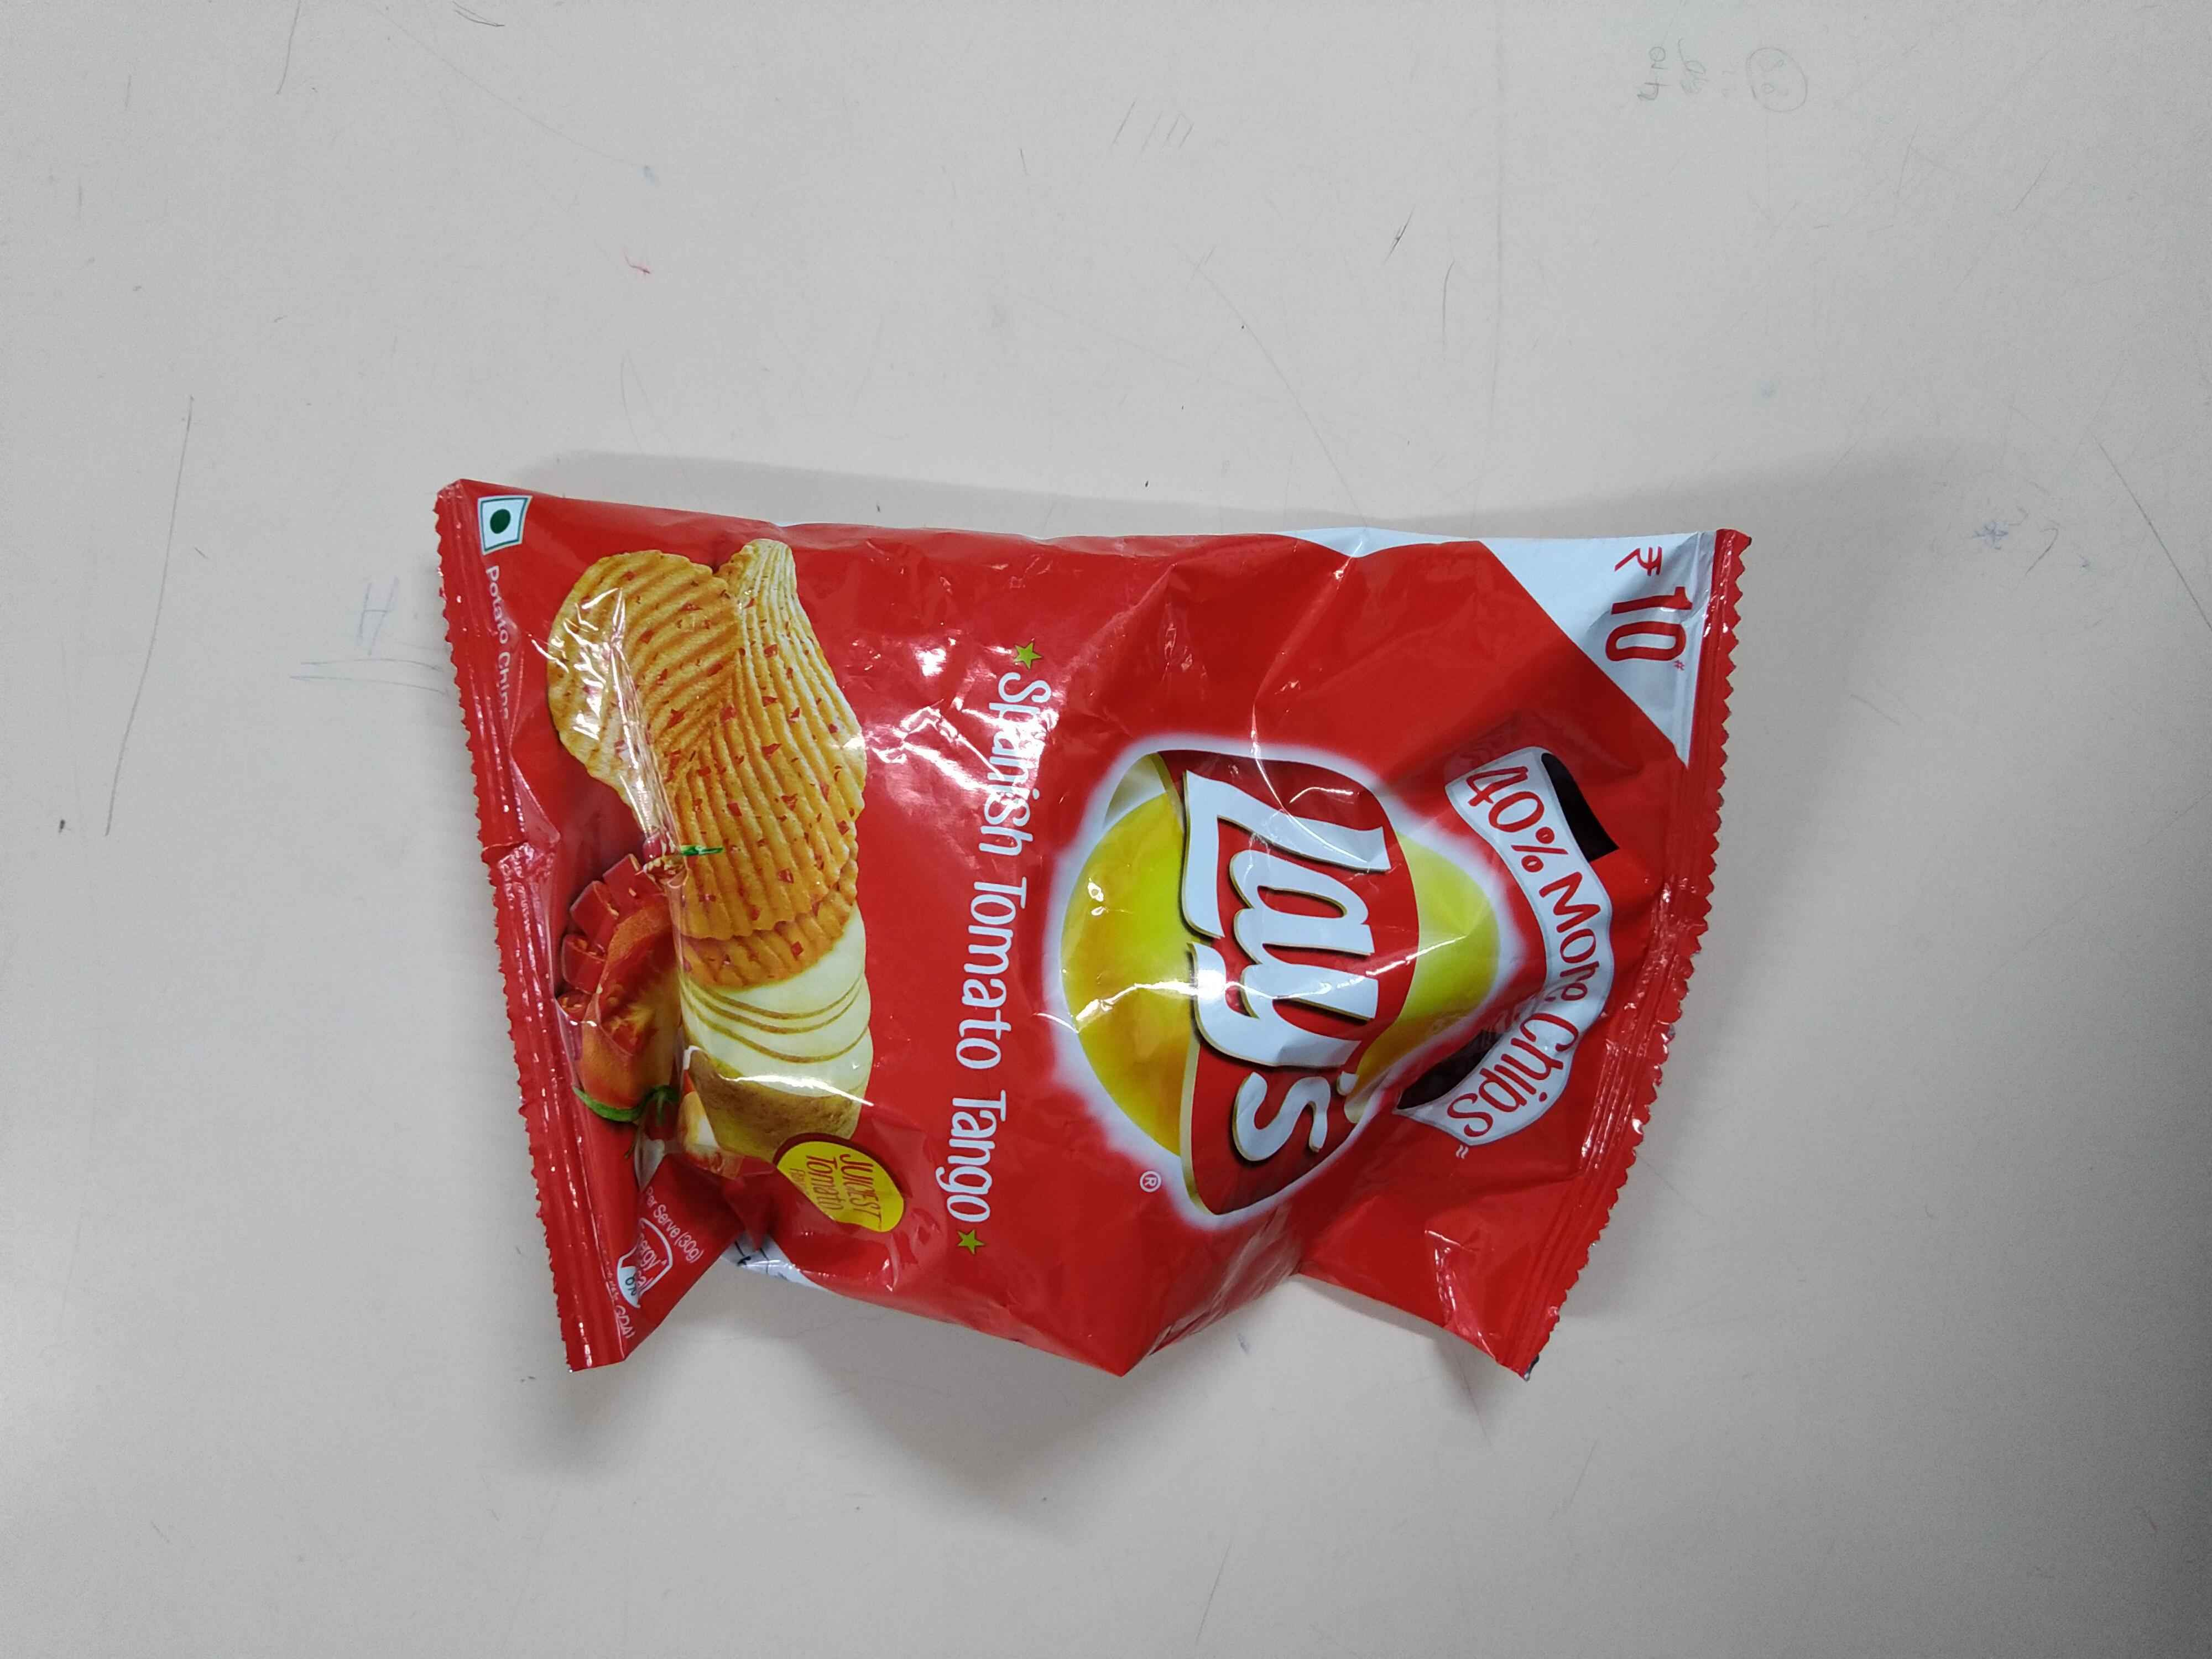Lays: (1031, 732, 1538, 1197)
